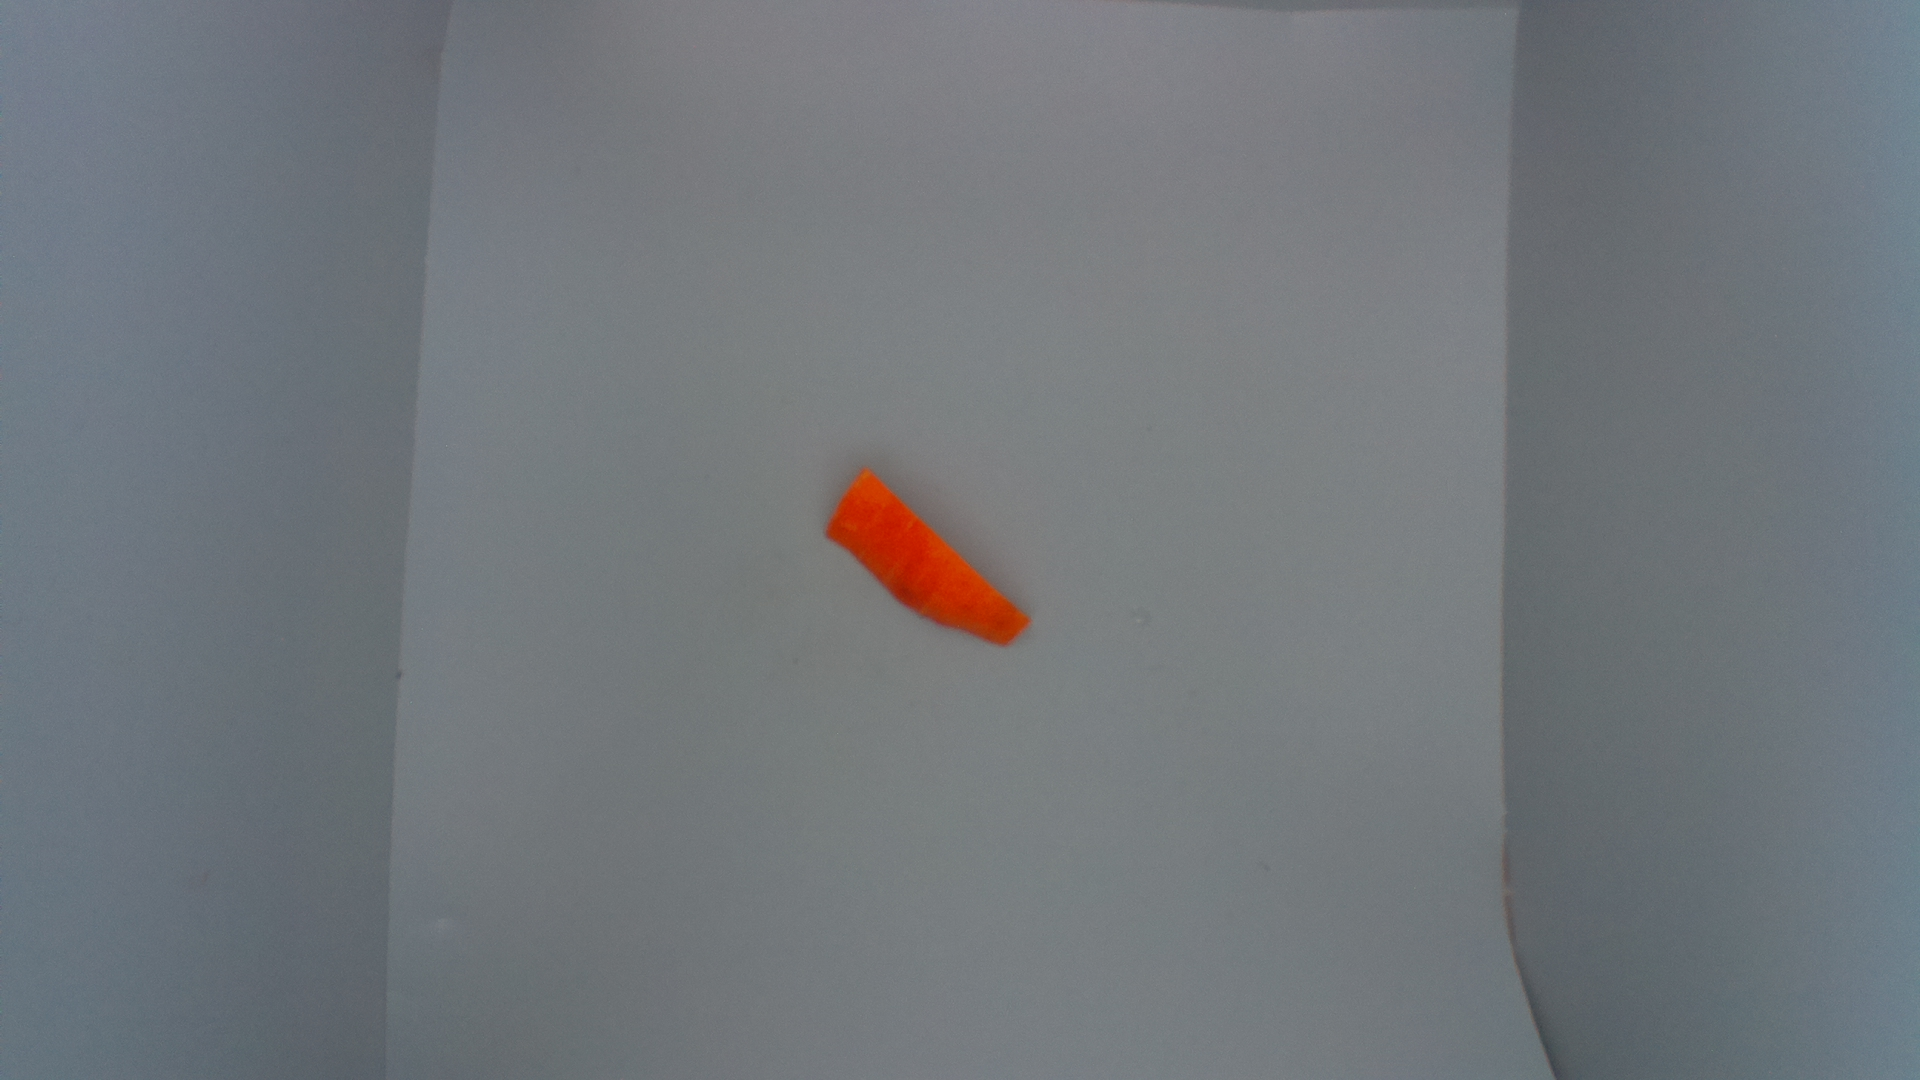carrot: (818, 463, 1034, 646)
